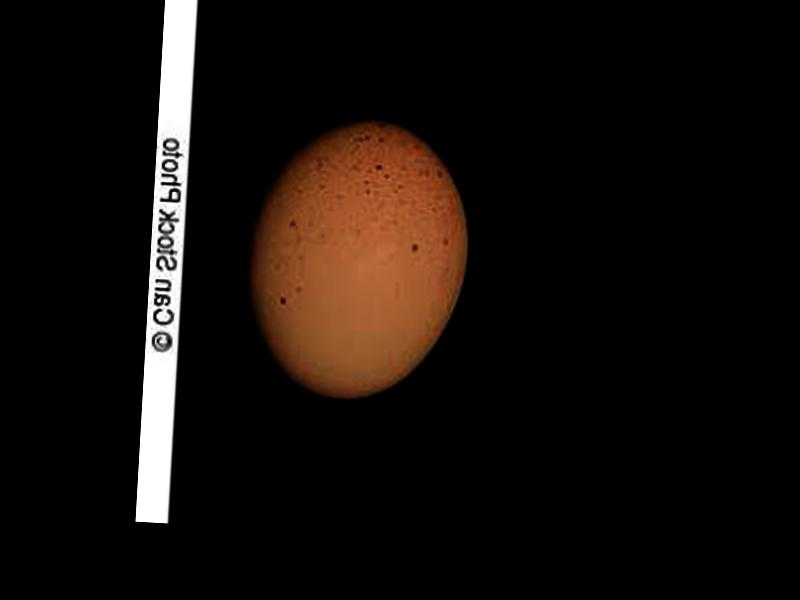Eggs: (237, 115, 474, 406)
